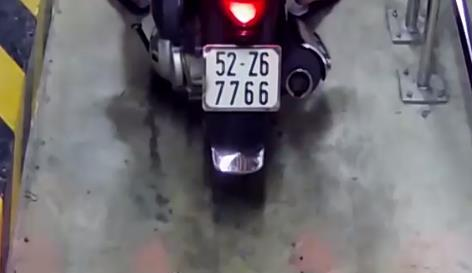lisence: (202, 43, 281, 112)
